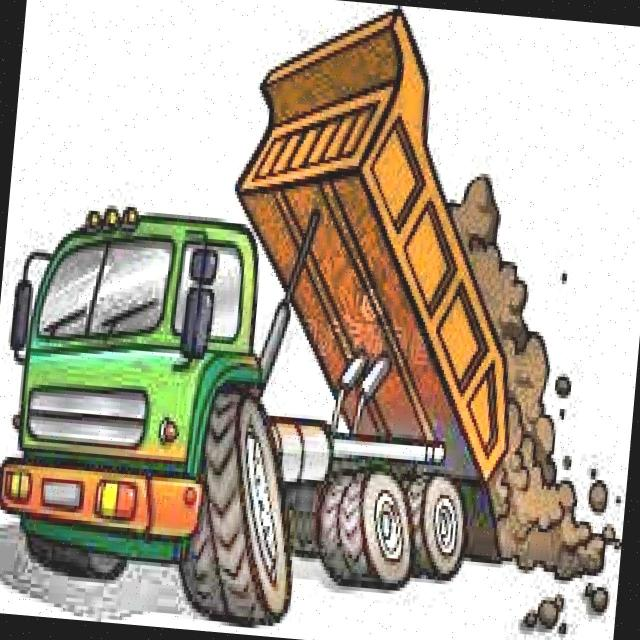dump_truck: (0, 0, 599, 640)
